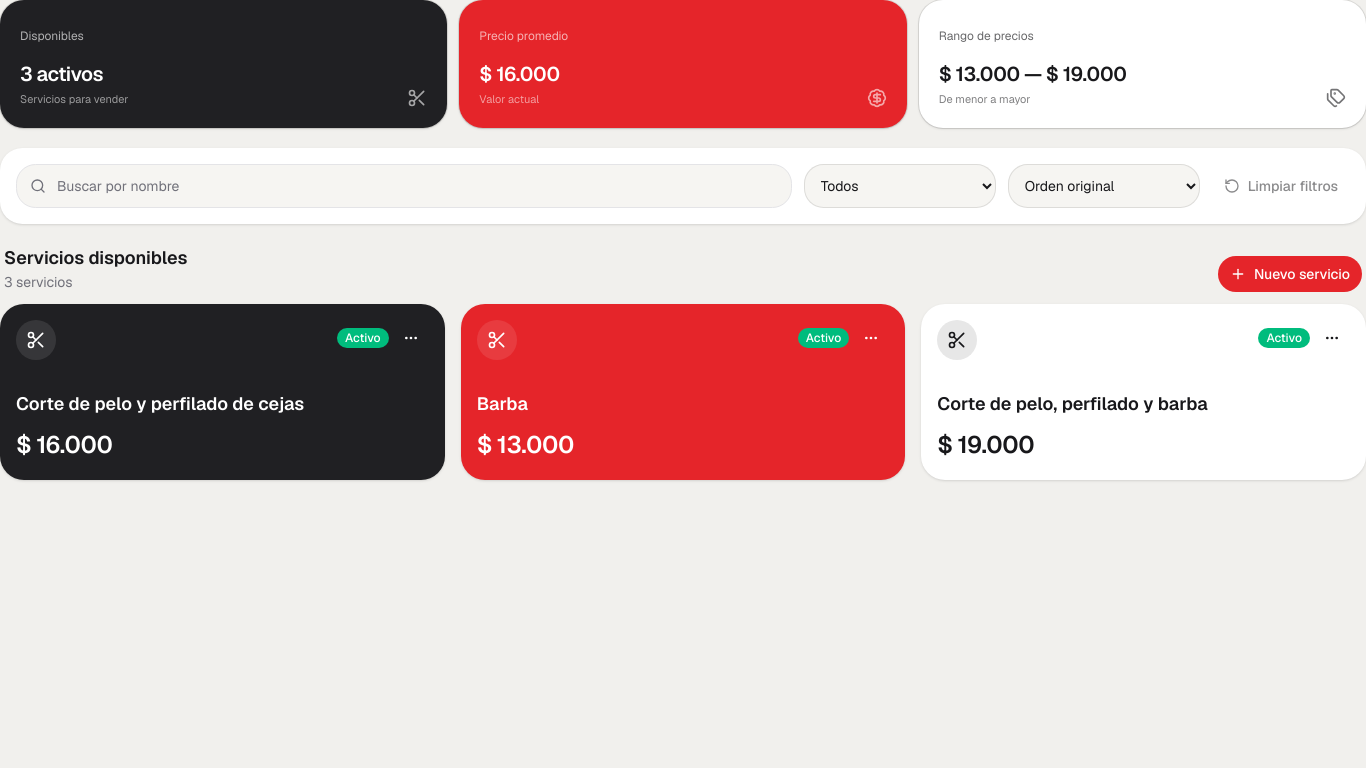
Scenario: deletes a persisted service only after confirmation
Click the button named "Gestionar Barba".
click(871, 338)  # box [853,320,889,356]
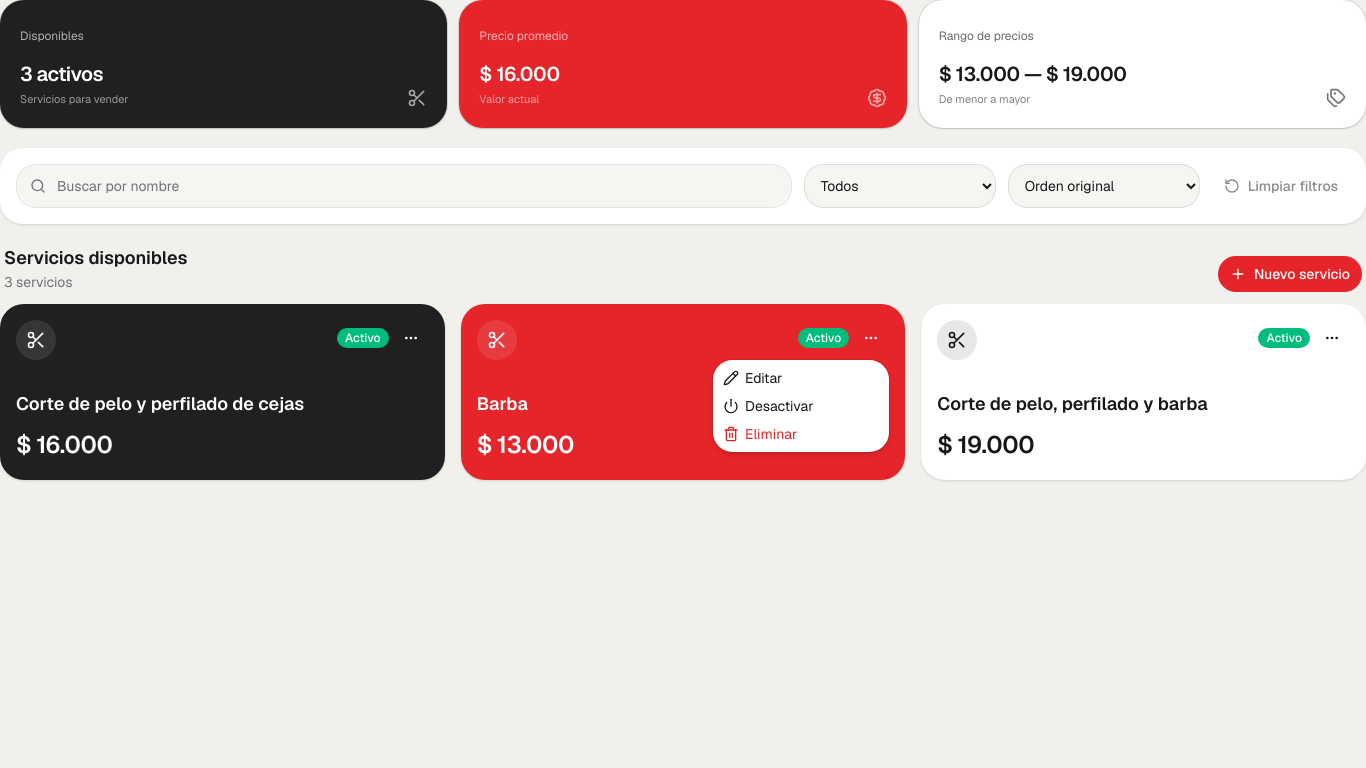
Click the menu item "Eliminar".
click(760, 434)  # box [723,425,797,443]
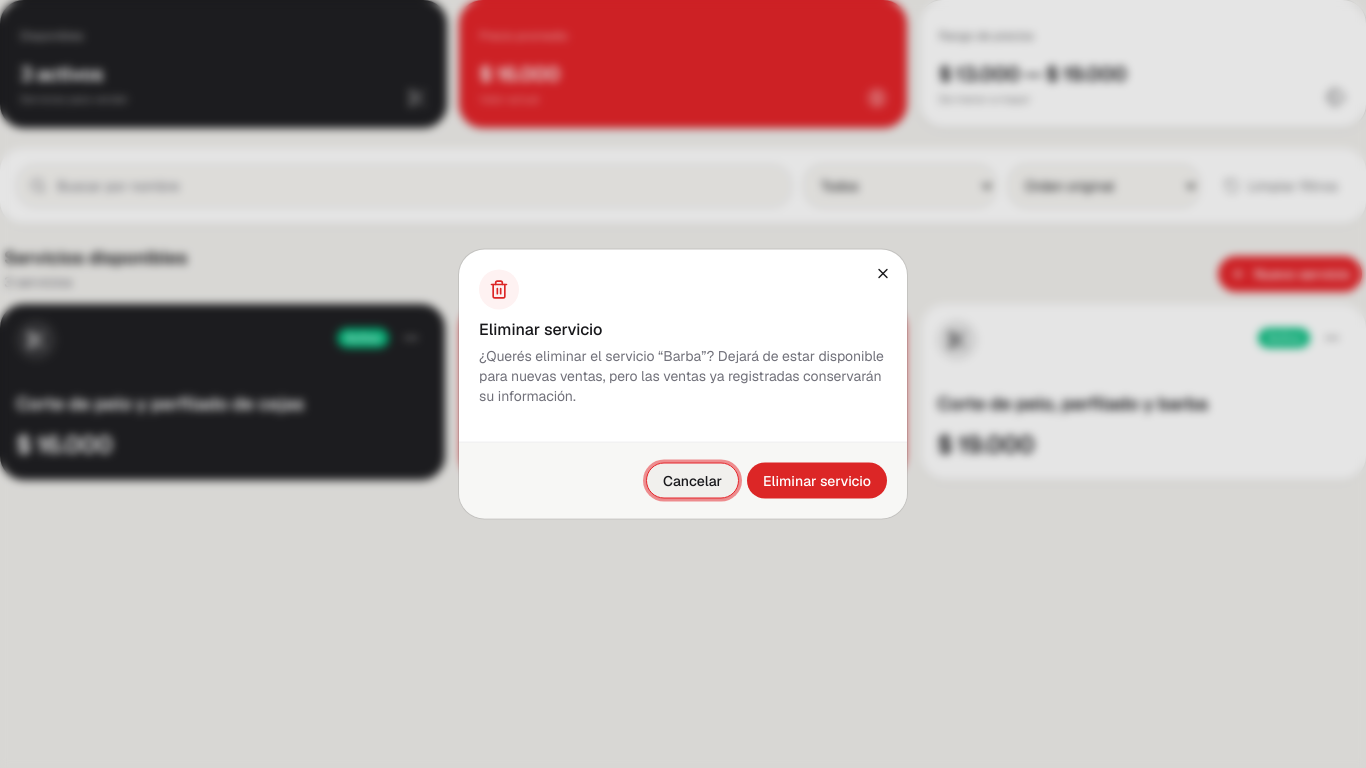
Expected: the text "Barba" is shown, [477,392,528,415]
Click the button "Eliminar servicio".
click(817, 480)  # box [747,462,887,498]
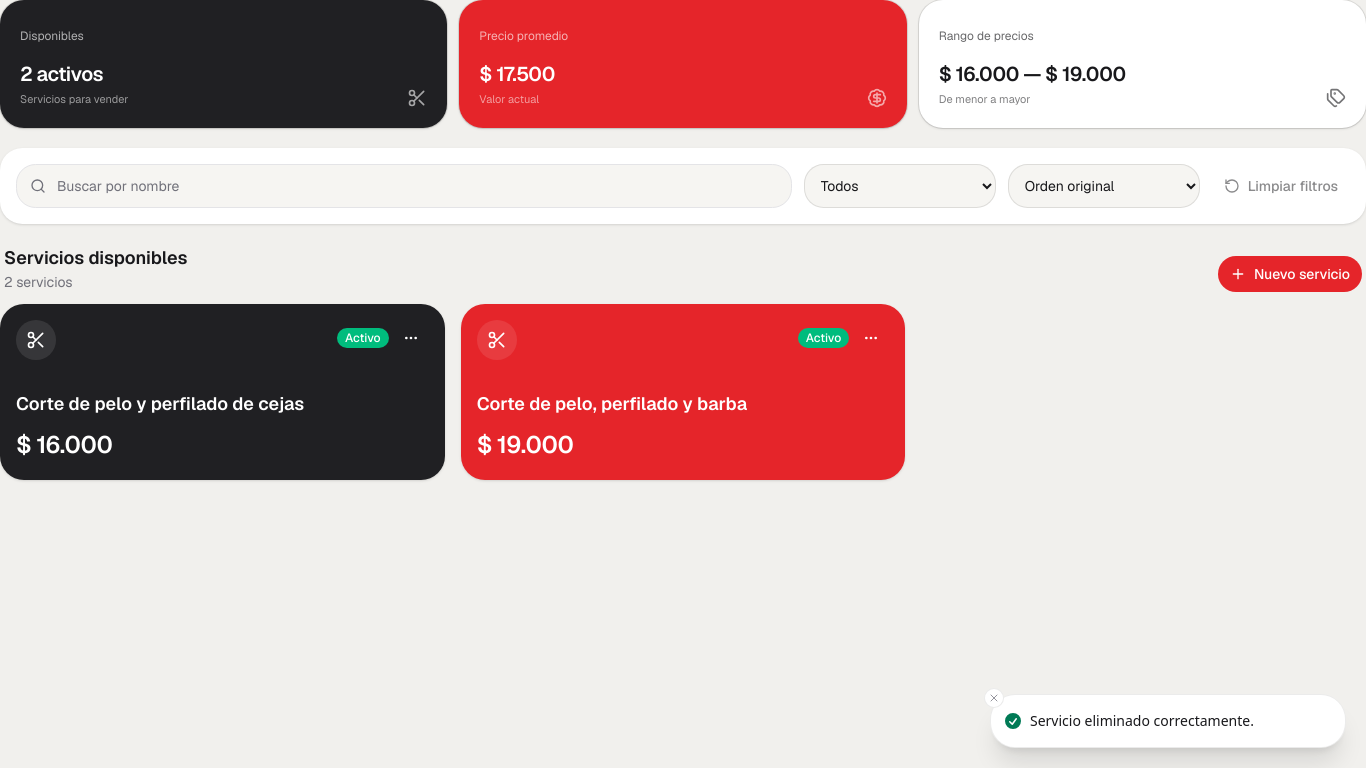
Now the list item "Servicio eliminado correctamente." is shown, box [990,694,1346,748]
